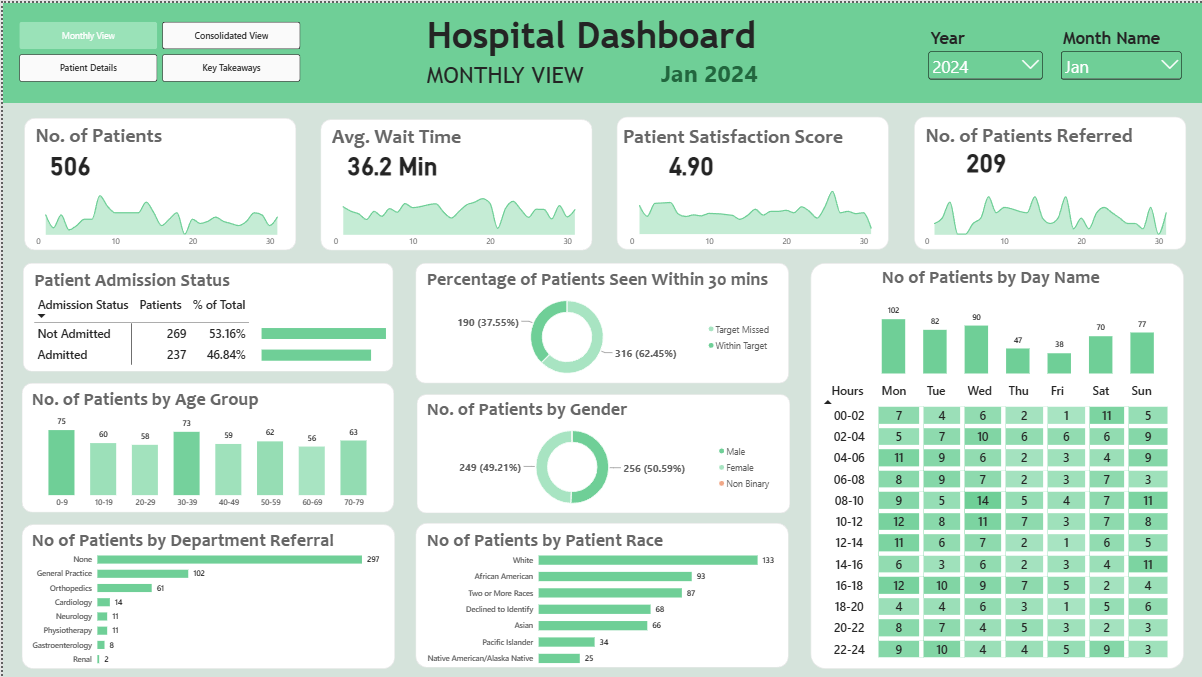

The page's visual inventory and layout, read from the dashboard file:
{"tool":"powerbi","page":{"name":"Monthly View","canvas":[1920,1080],"ordinal":0},"visuals":[{"type":"shape","box":[0,0,1920,160],"z":0},{"type":"textbox","box":[677.9,16.4,810,75],"z":1000},{"type":"textbox","box":[677.9,92.2,296.7,66.7],"z":2000},{"type":"slicer","fields":{"Values":["Date Table.Year"]},"box":[1476,40,192,86],"z":3000},{"type":"slicer","fields":{"Values":["Date Table.Month Name"]},"box":[1687.5,40,202.5,85],"z":4000},{"type":"shape","box":[33.3,183.3,435,211.7],"z":5000},{"type":"card","fields":{"Values":["Hospital ER_Data.No of Patients"]},"box":[32.5,215,150,82.5],"z":6000},{"type":"textbox","box":[52.5,192.5,350,60],"z":7000},{"type":"areaChart","fields":{"Category":["Date Table.Date.Variation.Date Hierarchy.Day"],"Y":["Hospital ER_Data.No of Patients"]},"box":[30,277.8,435,132.5],"z":8000},{"type":"card","fields":{"Values":["Min(Date Table.Month & Year)"]},"box":[924.1,66.4,412.5,92.5],"z":9000},{"type":"shape","box":[508.3,185,435,210],"z":10000},{"type":"shape","box":[1457.5,182.5,435,212.5],"z":11000},{"type":"shape","box":[982.5,182.5,435,212.5],"z":12000},{"type":"card","fields":{"Values":["Hospital ER_Data.Avg Wait Time"]},"box":[507.5,215,230,82.5],"z":13000},{"type":"textbox","box":[526.7,193.3,306.7,60],"z":14000},{"type":"areaChart","fields":{"Category":["Date Table.Date.Variation.Date Hierarchy.Day"],"Y":["Avg(Hospital ER_Data.Patient Waittime)"]},"box":[505,277.8,435,132.5],"z":15000},{"type":"card","fields":{"Values":["Hospital ER_Data.Avg Satisfaction Score"]},"box":[985,215,230,82.5],"z":16000},{"type":"textbox","box":[992.5,193.8,426.2,55],"z":17000},{"type":"areaChart","fields":{"Category":["Date Table.Date.Variation.Date Hierarchy.Day"],"Y":["Hospital ER_Data.Avg Satisfaction Score"]},"box":[980,277.8,435,132.5],"z":18000},{"type":"card","fields":{"Values":["Hospital ER_Data.No of Patients Referred"]},"box":[1457.5,212.5,230,82.5],"z":19000},{"type":"textbox","box":[1475,192.5,415,57.5],"z":20000},{"type":"areaChart","fields":{"Category":["Date Table.Date.Variation.Date Hierarchy.Day"],"Y":["Hospital ER_Data.No of Patients Referred"]},"box":[1452.5,277.8,435,132.5],"z":21000},{"type":"shape","box":[32,416.2,592.5,173.8],"z":22000},{"type":"pivotTable","title":"Patient Admission Status","fields":{"Rows":["Hospital ER_Data.Admission Status"],"Values":["Hospital ER_Data.No of Patients1","Hospital ER_Data.No of Patients"]},"box":[34,410,436,202],"z":23000},{"type":"barChart","fields":{"Category":["Hospital ER_Data.Admission Status"],"Y":["Hospital ER_Data.No of Patients"]},"box":[398.3,491.7,253.3,105],"z":24000},{"type":"shape","box":[30,607.1,595.7,207.1],"z":25000},{"type":"clusteredColumnChart","title":" No. of Patients by Age Group","fields":{"Category":["Hospital ER_Data.Age Group"],"Y":["Hospital ER_Data.No of Patients"]},"box":[30,607.5,595,210],"z":26000},{"type":"shape","box":[30,833.2,597.1,231.4],"z":27000},{"type":"clusteredBarChart","fields":{"Category":["Hospital ER_Data.Department Referral"],"Y":["Hospital ER_Data.No of Patients"]},"box":[30,835.6,588.3,225],"z":28000},{"type":"shape","box":[660.3,832.7,597.1,231.4],"z":29000},{"type":"shape","box":[1292,415.5,597.3,649.2],"z":30000},{"type":"shape","box":[660.1,415.5,597.3,192.6],"z":31000},{"type":"shape","box":[662.2,625.4,597.3,190.4],"z":32000},{"type":"donutChart","title":"Percentage of Patients Seen Within 30 mins","fields":{"Category":["Hospital ER_Data.Waittime Status"],"Y":["Hospital ER_Data.No of Patients"]},"box":[662.2,415.5,588.6,192.6],"z":33000},{"type":"donutChart","title":"No. of Patients by Gender","fields":{"Category":["Hospital ER_Data.Patient Gender"],"Y":["Hospital ER_Data.No of Patients"]},"box":[662.2,623.3,588.6,192.6],"z":34000},{"type":"clusteredBarChart","fields":{"Category":["Hospital ER_Data.Patient Race"],"Y":["Hospital ER_Data.No of Patients"]},"box":[662.2,836.4,588.3,225],"z":35000},{"type":"pivotTable","fields":{"Columns":["Date Table.Day Name"],"Rows":["Hospital ER_Data.Waittime Interval"],"Values":["Hospital ER_Data.No of Patients"]},"box":[1292,601.6,599.5,478.3],"z":36000},{"type":"columnChart","fields":{"Category":["Date Table.Day Name"],"Y":["Hospital ER_Data.No of Patients"]},"box":[1389.4,415.5,469.6,181.8],"z":37000},{"type":"pageNavigator","box":[26,30,450,96],"z":37001}]}

Visuals, with their boxes in screenshot pixels (x1, y1, x2, y2), scaled from the page's 1920x1080 canvas onto the 1202x677 screenshot:
shape: [x1=0, y1=0, x2=1201, y2=100]
textbox: [x1=424, y1=10, x2=931, y2=57]
textbox: [x1=424, y1=58, x2=610, y2=100]
slicer - Date Table.Year: [x1=924, y1=25, x2=1044, y2=79]
slicer - Date Table.Month Name: [x1=1056, y1=25, x2=1183, y2=78]
shape: [x1=21, y1=115, x2=293, y2=248]
card - Hospital ER_Data.No of Patients: [x1=20, y1=135, x2=114, y2=186]
textbox: [x1=33, y1=121, x2=252, y2=158]
areaChart - Date Table.Date.Variation.Date Hierarchy.Day x Hospital ER_Data.No of Patients: [x1=19, y1=174, x2=291, y2=257]
card - Min(Date Table.Month & Year): [x1=579, y1=42, x2=837, y2=100]
shape: [x1=318, y1=116, x2=591, y2=248]
shape: [x1=912, y1=114, x2=1185, y2=248]
shape: [x1=615, y1=114, x2=887, y2=248]
card - Hospital ER_Data.Avg Wait Time: [x1=318, y1=135, x2=462, y2=186]
textbox: [x1=330, y1=121, x2=522, y2=159]
areaChart - Date Table.Date.Variation.Date Hierarchy.Day x Avg(Hospital ER_Data.Patient Waittime): [x1=316, y1=174, x2=588, y2=257]
card - Hospital ER_Data.Avg Satisfaction Score: [x1=617, y1=135, x2=761, y2=186]
textbox: [x1=621, y1=121, x2=888, y2=156]
areaChart - Date Table.Date.Variation.Date Hierarchy.Day x Hospital ER_Data.Avg Satisfaction Score: [x1=614, y1=174, x2=886, y2=257]
card - Hospital ER_Data.No of Patients Referred: [x1=912, y1=133, x2=1056, y2=185]
textbox: [x1=923, y1=121, x2=1183, y2=157]
areaChart - Date Table.Date.Variation.Date Hierarchy.Day x Hospital ER_Data.No of Patients Referred: [x1=909, y1=174, x2=1182, y2=257]
shape: [x1=20, y1=261, x2=391, y2=370]
"Patient Admission Status" pivotTable: [x1=21, y1=257, x2=294, y2=384]
barChart - Hospital ER_Data.Admission Status x Hospital ER_Data.No of Patients: [x1=249, y1=308, x2=408, y2=374]
shape: [x1=19, y1=381, x2=392, y2=510]
" No. of Patients by Age Group" clusteredColumnChart: [x1=19, y1=381, x2=391, y2=512]
shape: [x1=19, y1=522, x2=393, y2=667]
clusteredBarChart - Hospital ER_Data.Department Referral x Hospital ER_Data.No of Patients: [x1=19, y1=524, x2=387, y2=665]
shape: [x1=413, y1=522, x2=787, y2=667]
shape: [x1=809, y1=260, x2=1183, y2=667]
shape: [x1=413, y1=260, x2=787, y2=381]
shape: [x1=415, y1=392, x2=788, y2=511]
"Percentage of Patients Seen Within 30 mins" donutChart: [x1=415, y1=260, x2=783, y2=381]
"No. of Patients by Gender" donutChart: [x1=415, y1=391, x2=783, y2=511]
clusteredBarChart - Hospital ER_Data.Patient Race x Hospital ER_Data.No of Patients: [x1=415, y1=524, x2=783, y2=665]
pivotTable - Date Table.Day Name x Hospital ER_Data.Waittime Interval: [x1=809, y1=377, x2=1184, y2=676]
columnChart - Date Table.Day Name x Hospital ER_Data.No of Patients: [x1=870, y1=260, x2=1164, y2=374]
pageNavigator: [x1=16, y1=19, x2=298, y2=79]
